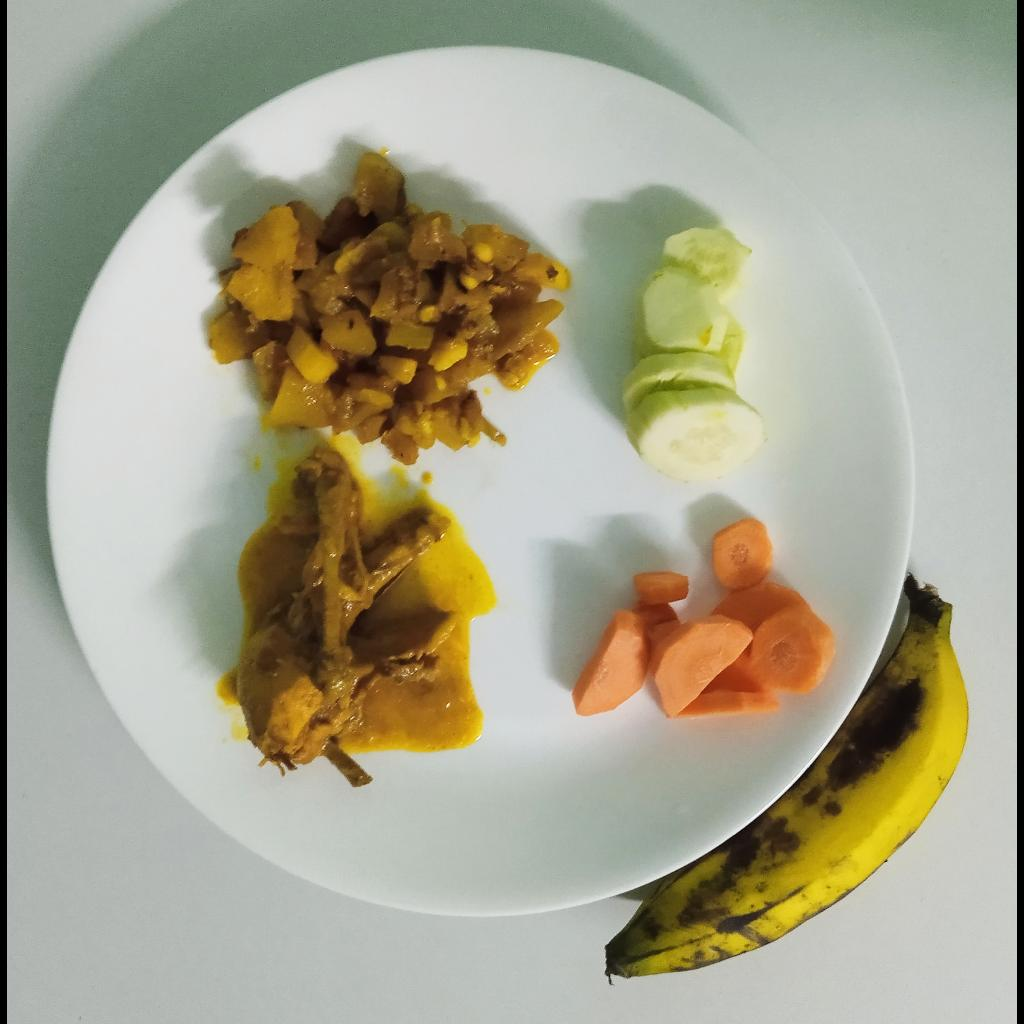banana: (604, 588, 968, 977)
carrot: (569, 520, 839, 718)
chicken: (233, 445, 461, 789)
cucumber: (619, 227, 767, 479)
kumra-vaji: (209, 153, 572, 471)
